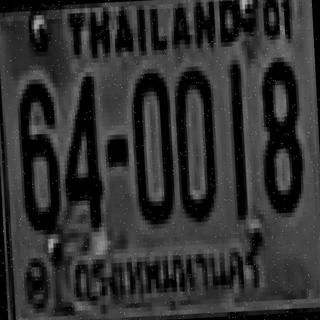N00: (170, 66, 217, 218), (130, 68, 174, 221)
N01: (227, 62, 246, 218)
N04: (58, 72, 103, 229)
N06: (15, 79, 59, 231)
N08: (256, 57, 302, 210)
P04: (71, 233, 272, 313)
